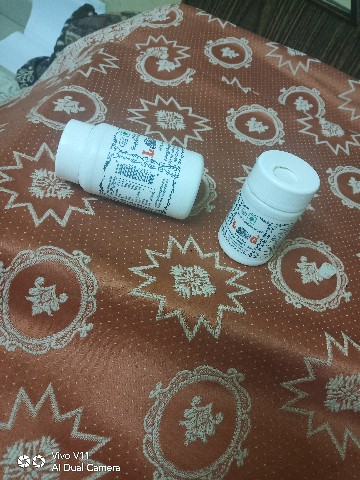lgasafoetidapowder large: (30, 101, 208, 234)
lgasafoetidapowder small: (217, 132, 326, 271)
